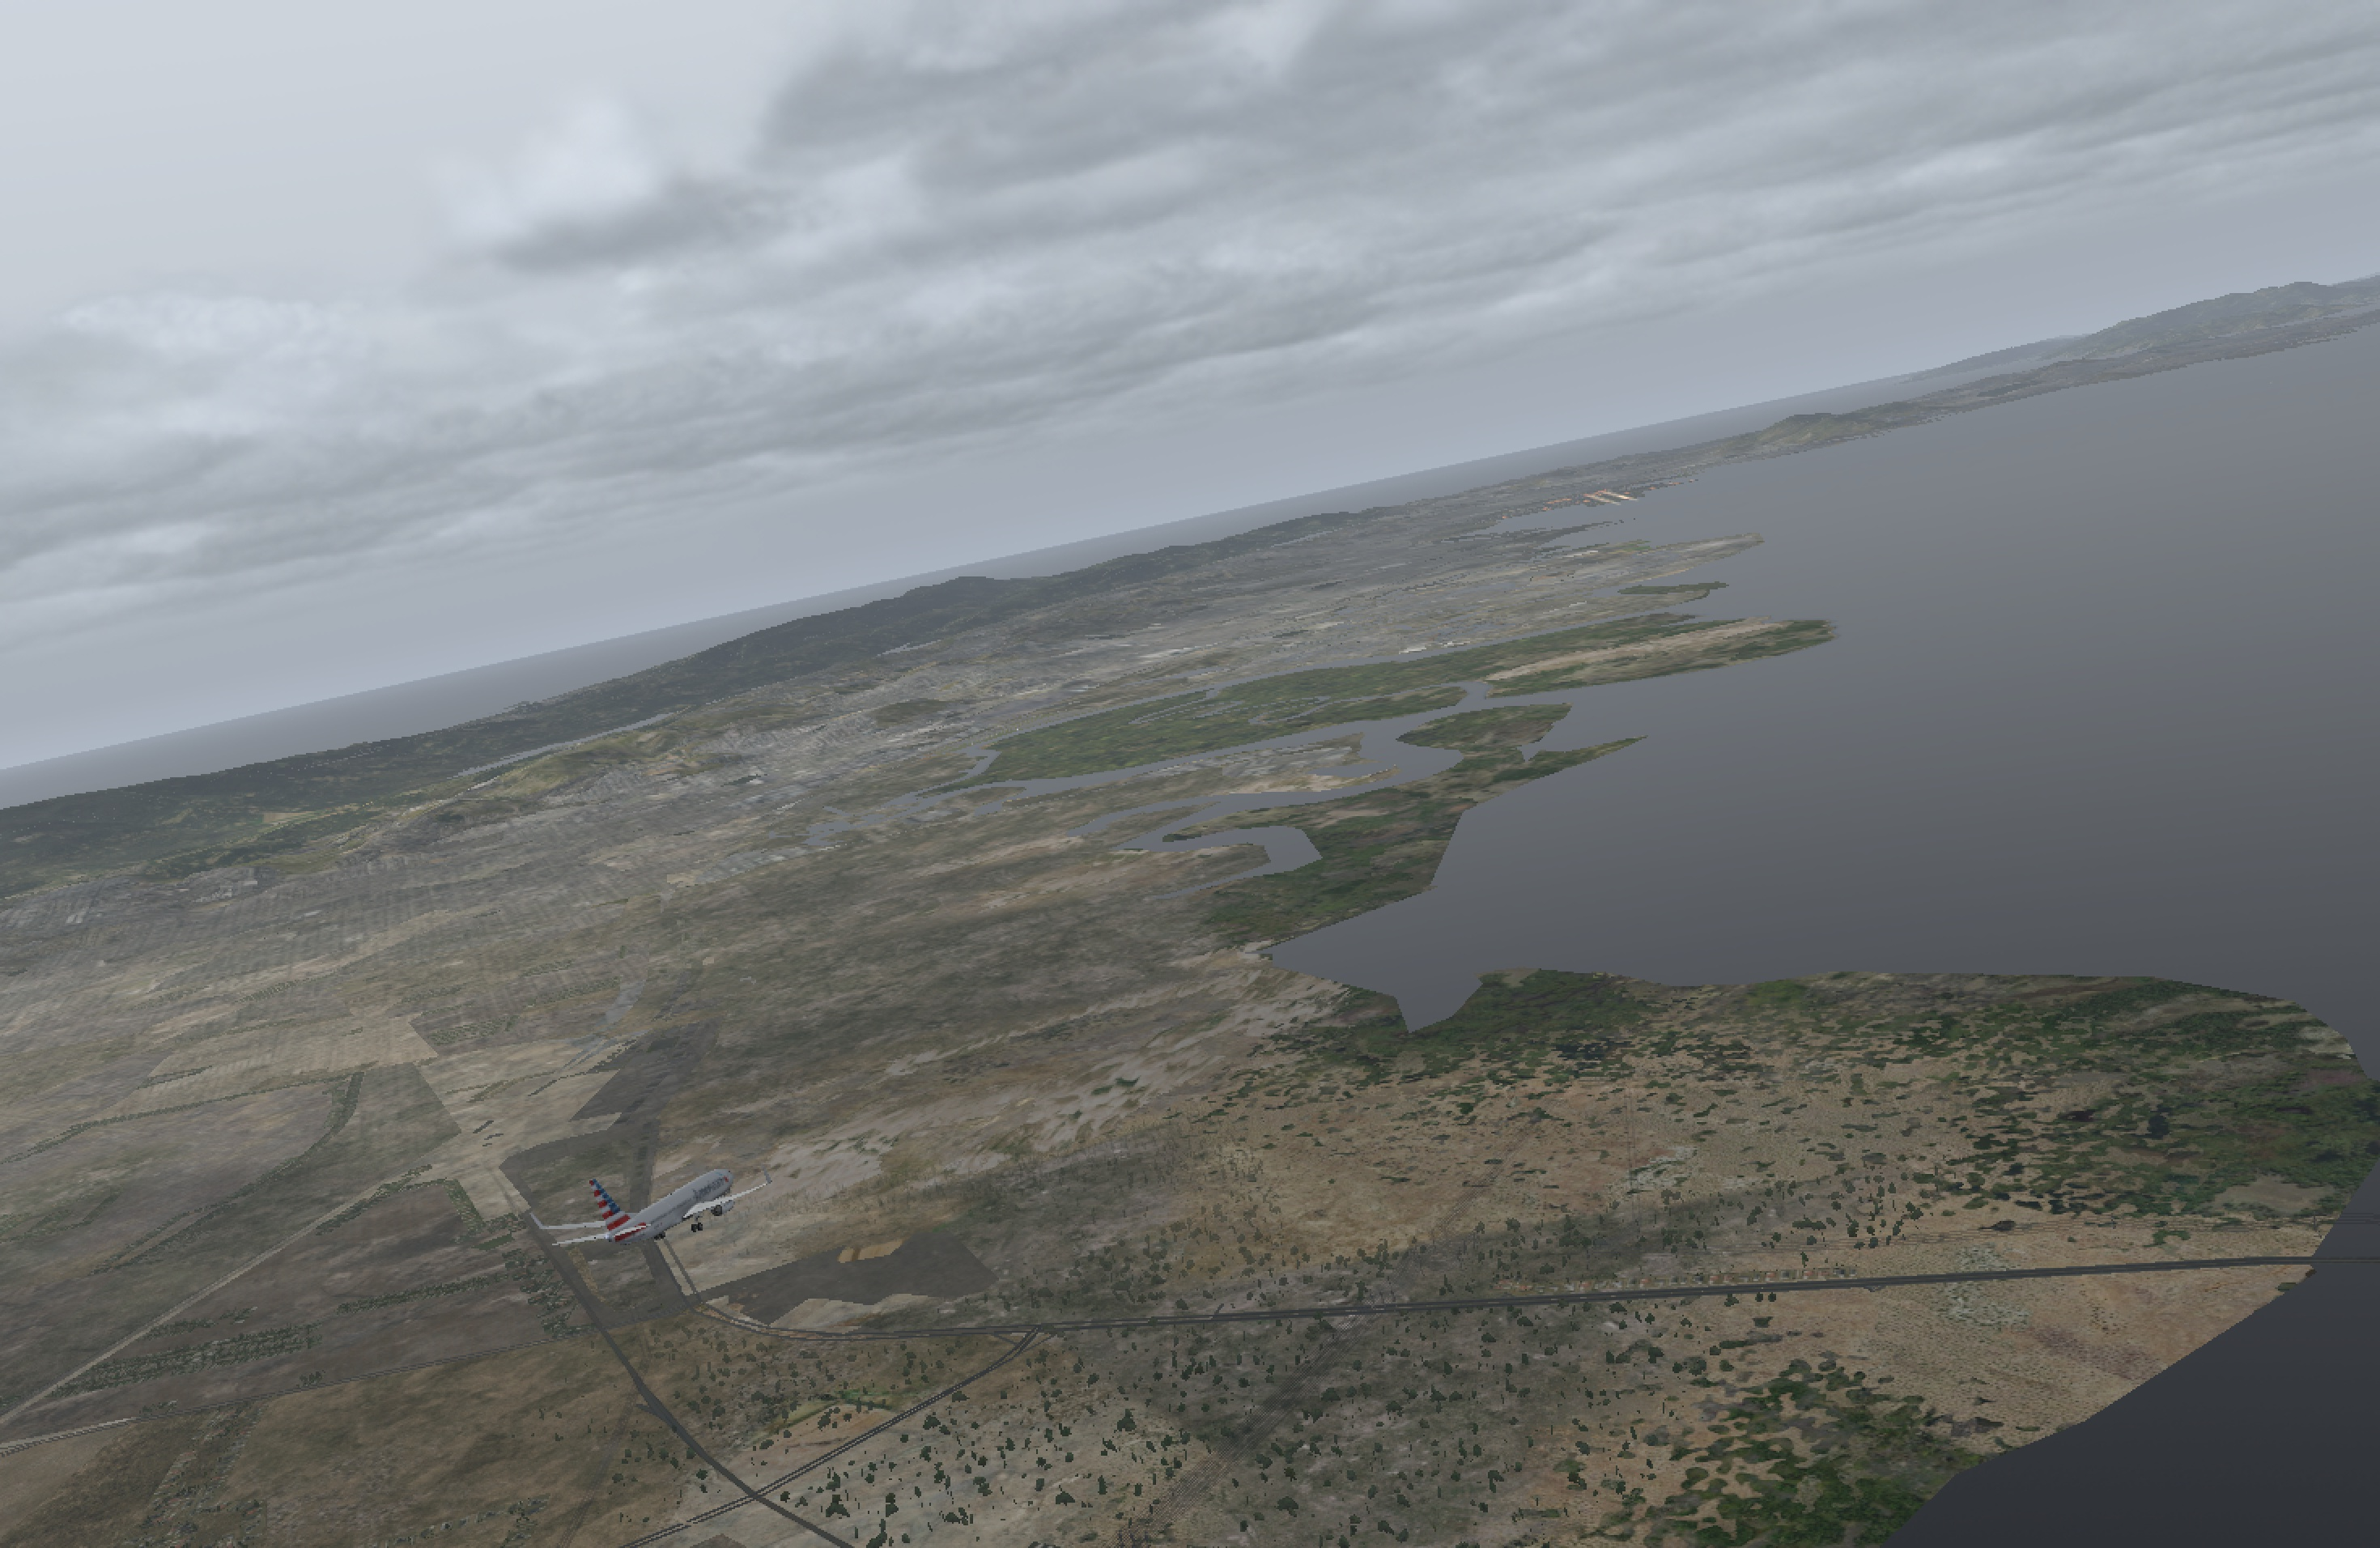aircraft: (543, 1159, 814, 1262)
